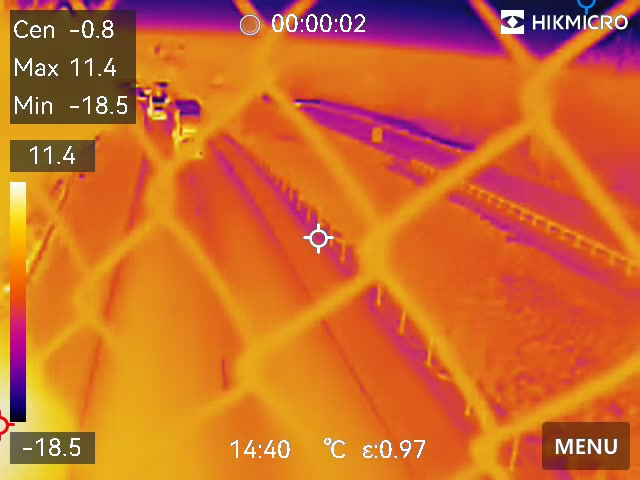heavyTruck: (169, 98, 208, 165), (146, 85, 169, 124)
